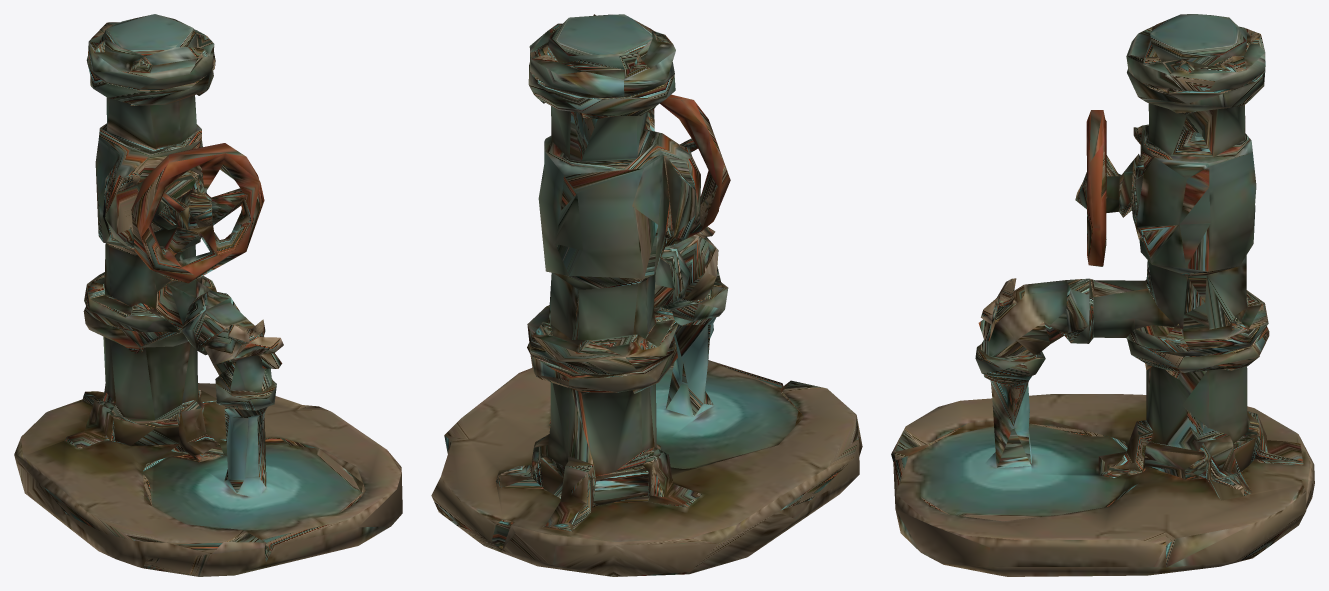
The model's file is pipe.glb.
3 views of the same model, side by side, from view 1: azimuth 30°, elevation 25°; view 2: azimuth 150°, elevation 25°; view 3: azimuth 270°, elevation 25° (orthographic). The views are drawn at different scales.
Parts seen in each view (by area): view 1: tripo_node_615cee71; view 2: tripo_node_615cee71; view 3: tripo_node_615cee71.
Part boxes in pixels (x1,y1,x2,y2): tripo_node_615cee71: (14,14,402,576); tripo_node_615cee71: (431,14,862,576); tripo_node_615cee71: (891,14,1314,576).
Size of the model in its own units: 69.06 by 97.77 by 80.81.
Materials: 1 (1 with a texture image).
